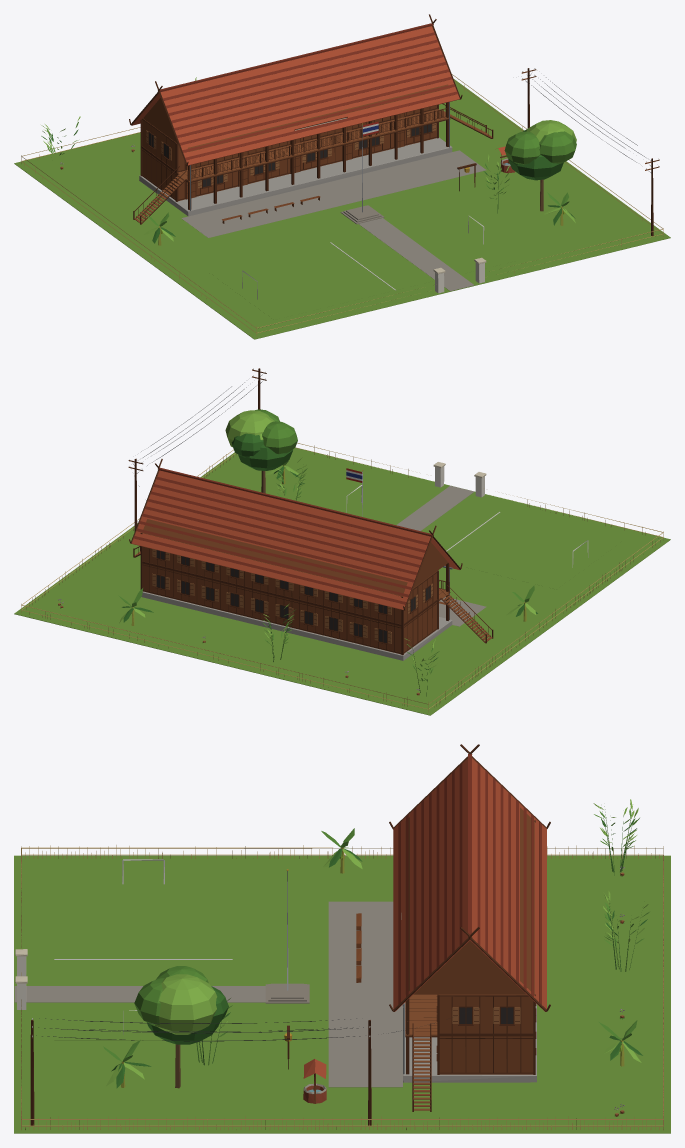
The model's file is school.glb.
3 renders of one model, top to bottom at view 1: azimuth 30°, elevation 25°; view 2: azimuth 150°, elevation 25°; view 3: azimuth 270°, elevation 25°, orthographic. The views are drawn at different scales.
Visible parts, largest first — view 1: body, windows; view 2: body, windows; view 3: body.
Boxes of the visible parts, x1,y1,x2,y2 form: body: (14, 14, 670, 339); windows: (149, 124, 431, 187); body: (14, 368, 670, 715); windows: (156, 550, 430, 642); body: (14, 744, 670, 1133).
Size of the model in its own units: 47.9 by 13.08 by 47.9.
